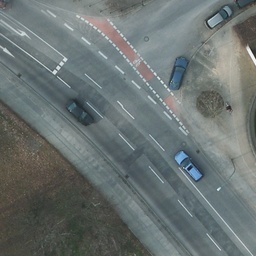car: (160, 56, 194, 90), (172, 150, 205, 182), (63, 99, 95, 128), (206, 5, 234, 29)
